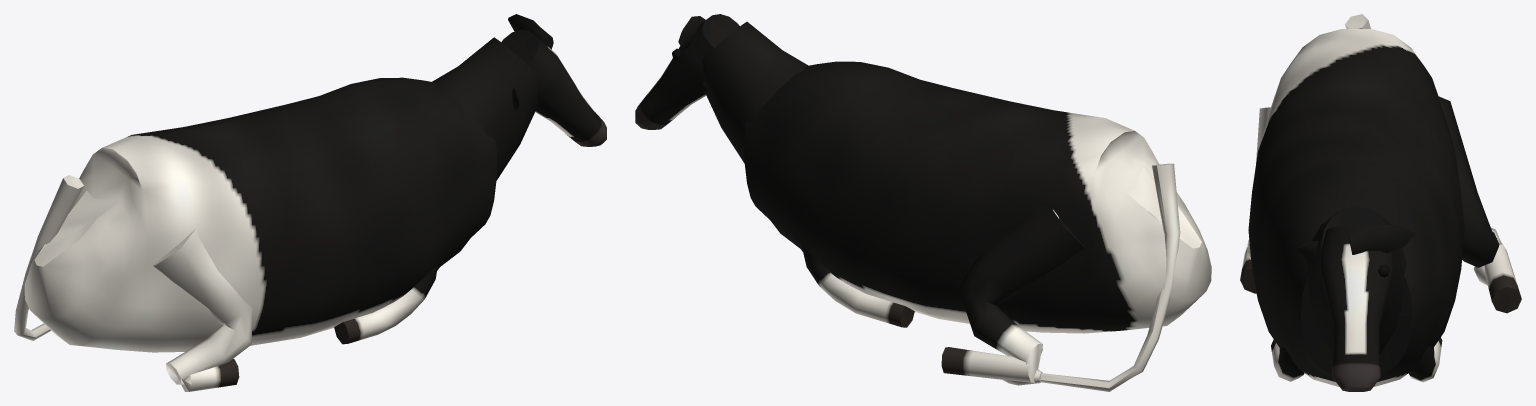
The model's file is tpl_life_herd_1970_cattle_fh_lie.glb.
The picture shows the model from 3 angles, left to right: view 1: azimuth 30°, elevation 25°; view 2: azimuth 150°, elevation 25°; view 3: azimuth 270°, elevation 25°; orthographic projection. The views are drawn at different scales.
Visible parts, largest first — view 1: tpl_life_herd_1970_cattle_fh_lie; view 2: tpl_life_herd_1970_cattle_fh_lie; view 3: tpl_life_herd_1970_cattle_fh_lie.
Part boxes in pixels (x1,y1,x2,y2): tpl_life_herd_1970_cattle_fh_lie: (14,14,606,391); tpl_life_herd_1970_cattle_fh_lie: (635,14,1211,391); tpl_life_herd_1970_cattle_fh_lie: (1240,14,1521,391).
Size of the model in its own units: 2.32 by 0.9312 by 0.9187.
Materials: 2 (1 with a texture image).
